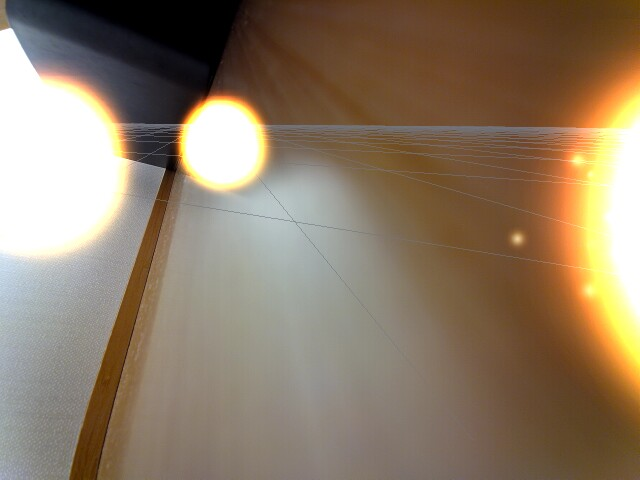fire: (2, 79, 133, 271), (564, 70, 640, 382), (174, 95, 273, 194)
